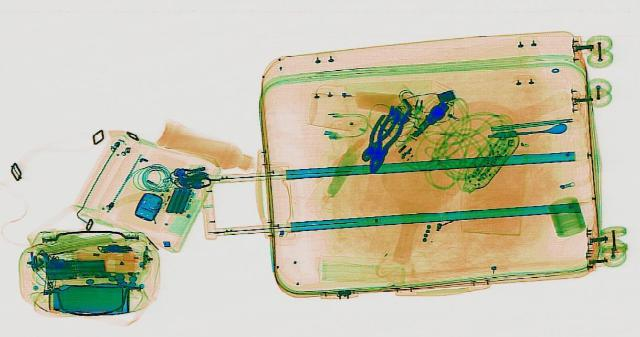Pliers: (357, 113, 409, 174), (352, 113, 402, 161)
